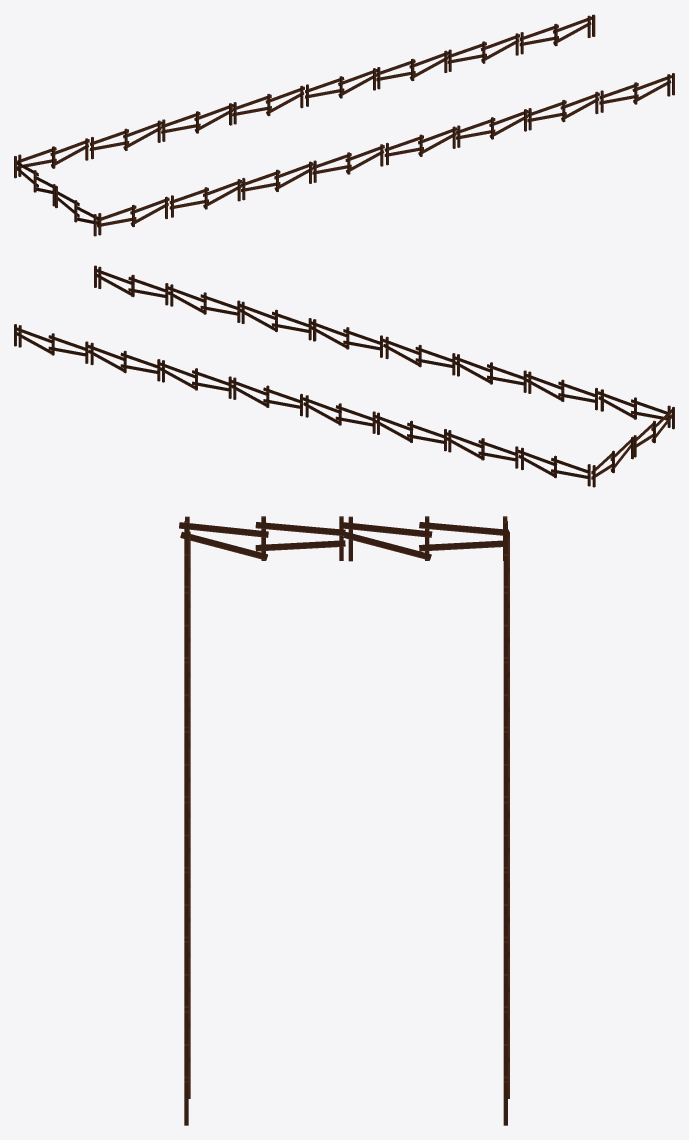
Rendered from fenceStructure.glb.
The picture shows the model from 3 angles, top to bottom: view 1: azimuth 30°, elevation 25°; view 2: azimuth 150°, elevation 25°; view 3: azimuth 270°, elevation 25°; orthographic projection. The views are drawn at different scales.
Visible parts, largest first — view 1: fence1.011; view 2: fence1.011; view 3: fence1.011.
Part boxes in pixels (x1,y1,x2,y2): fence1.011: (14,14,674,236); fence1.011: (14,265,674,487); fence1.011: (179,516,509,1125).
Size of the model in its own units: 34.57 by 1.22 by 8.55.
